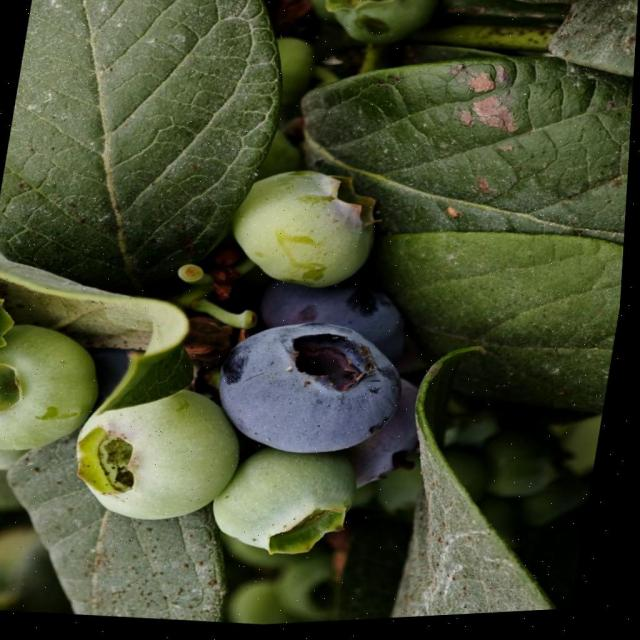RipeBlueBerry: (208, 309, 421, 469), (248, 274, 426, 368)
UnripeBlueBerry: (68, 377, 256, 537), (224, 160, 390, 302), (211, 444, 369, 570), (0, 314, 112, 460)
